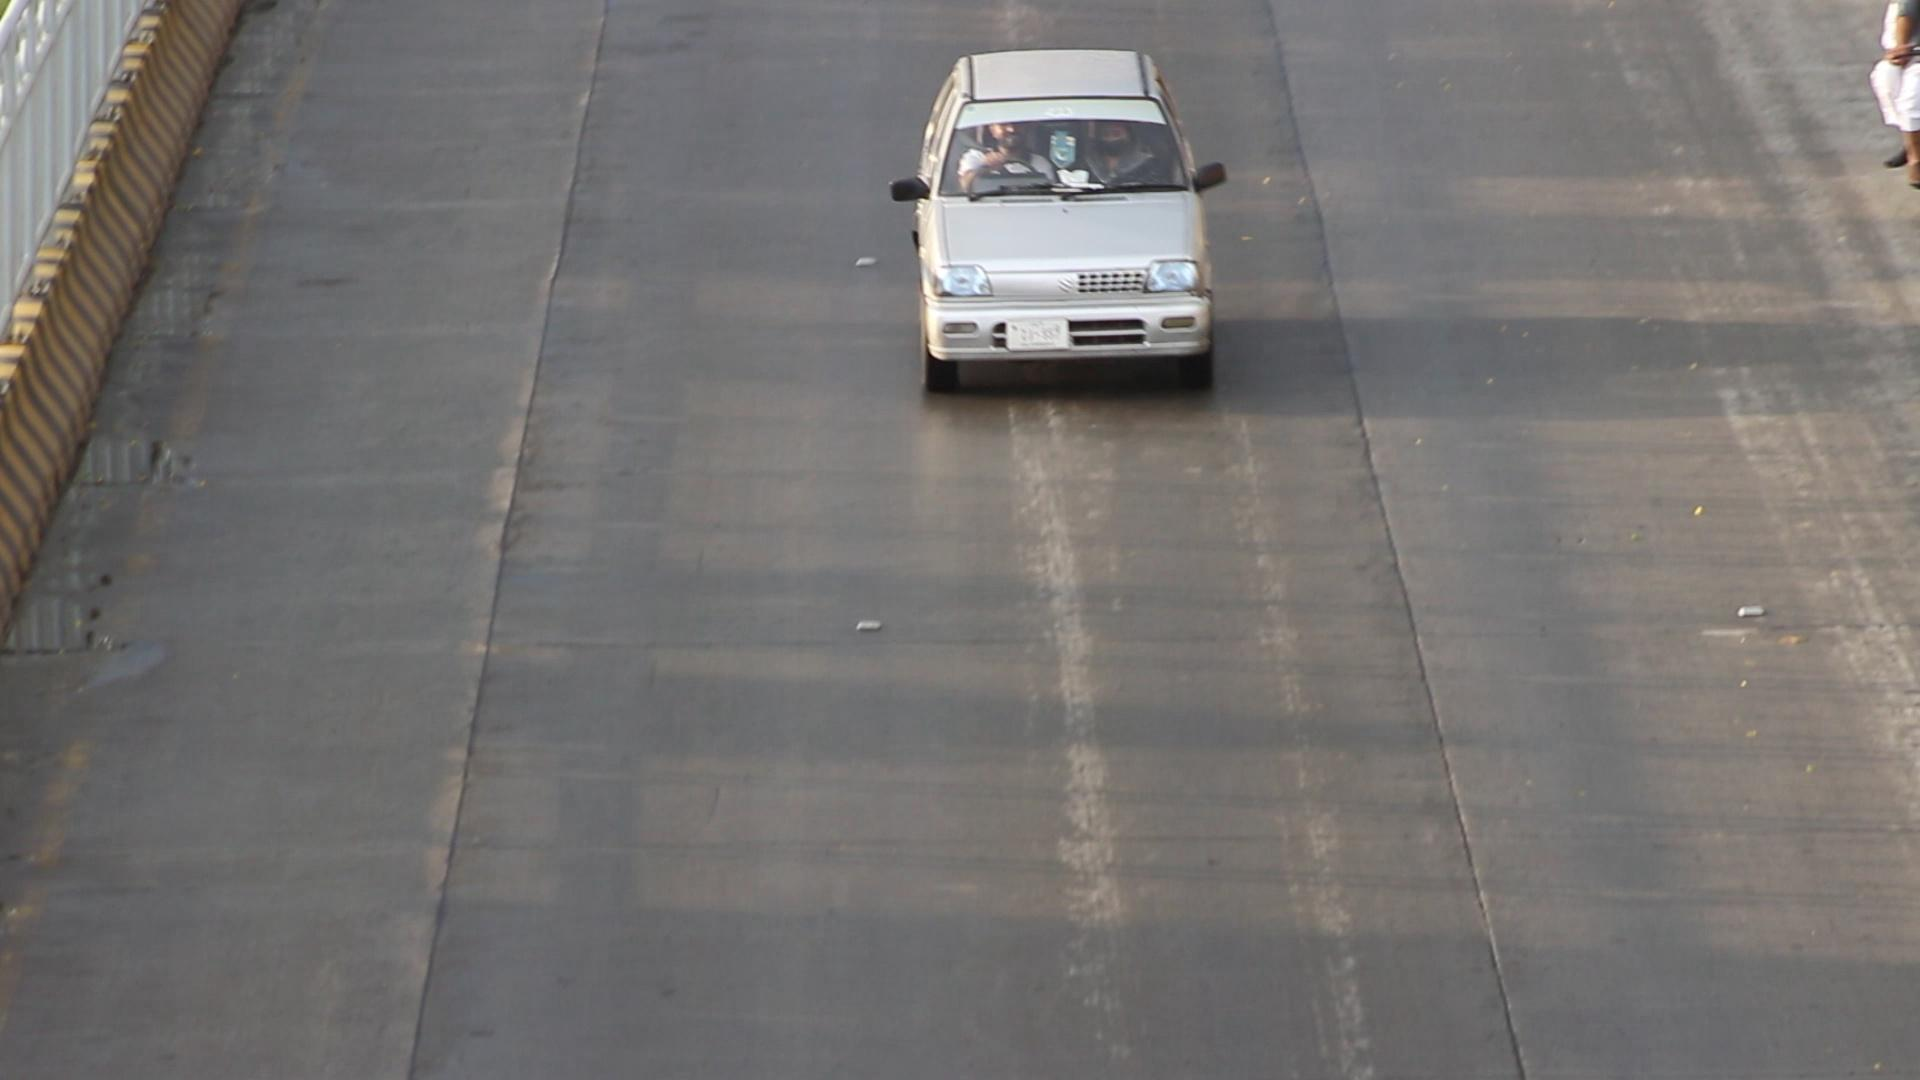windshield: (931, 90, 1199, 202)
